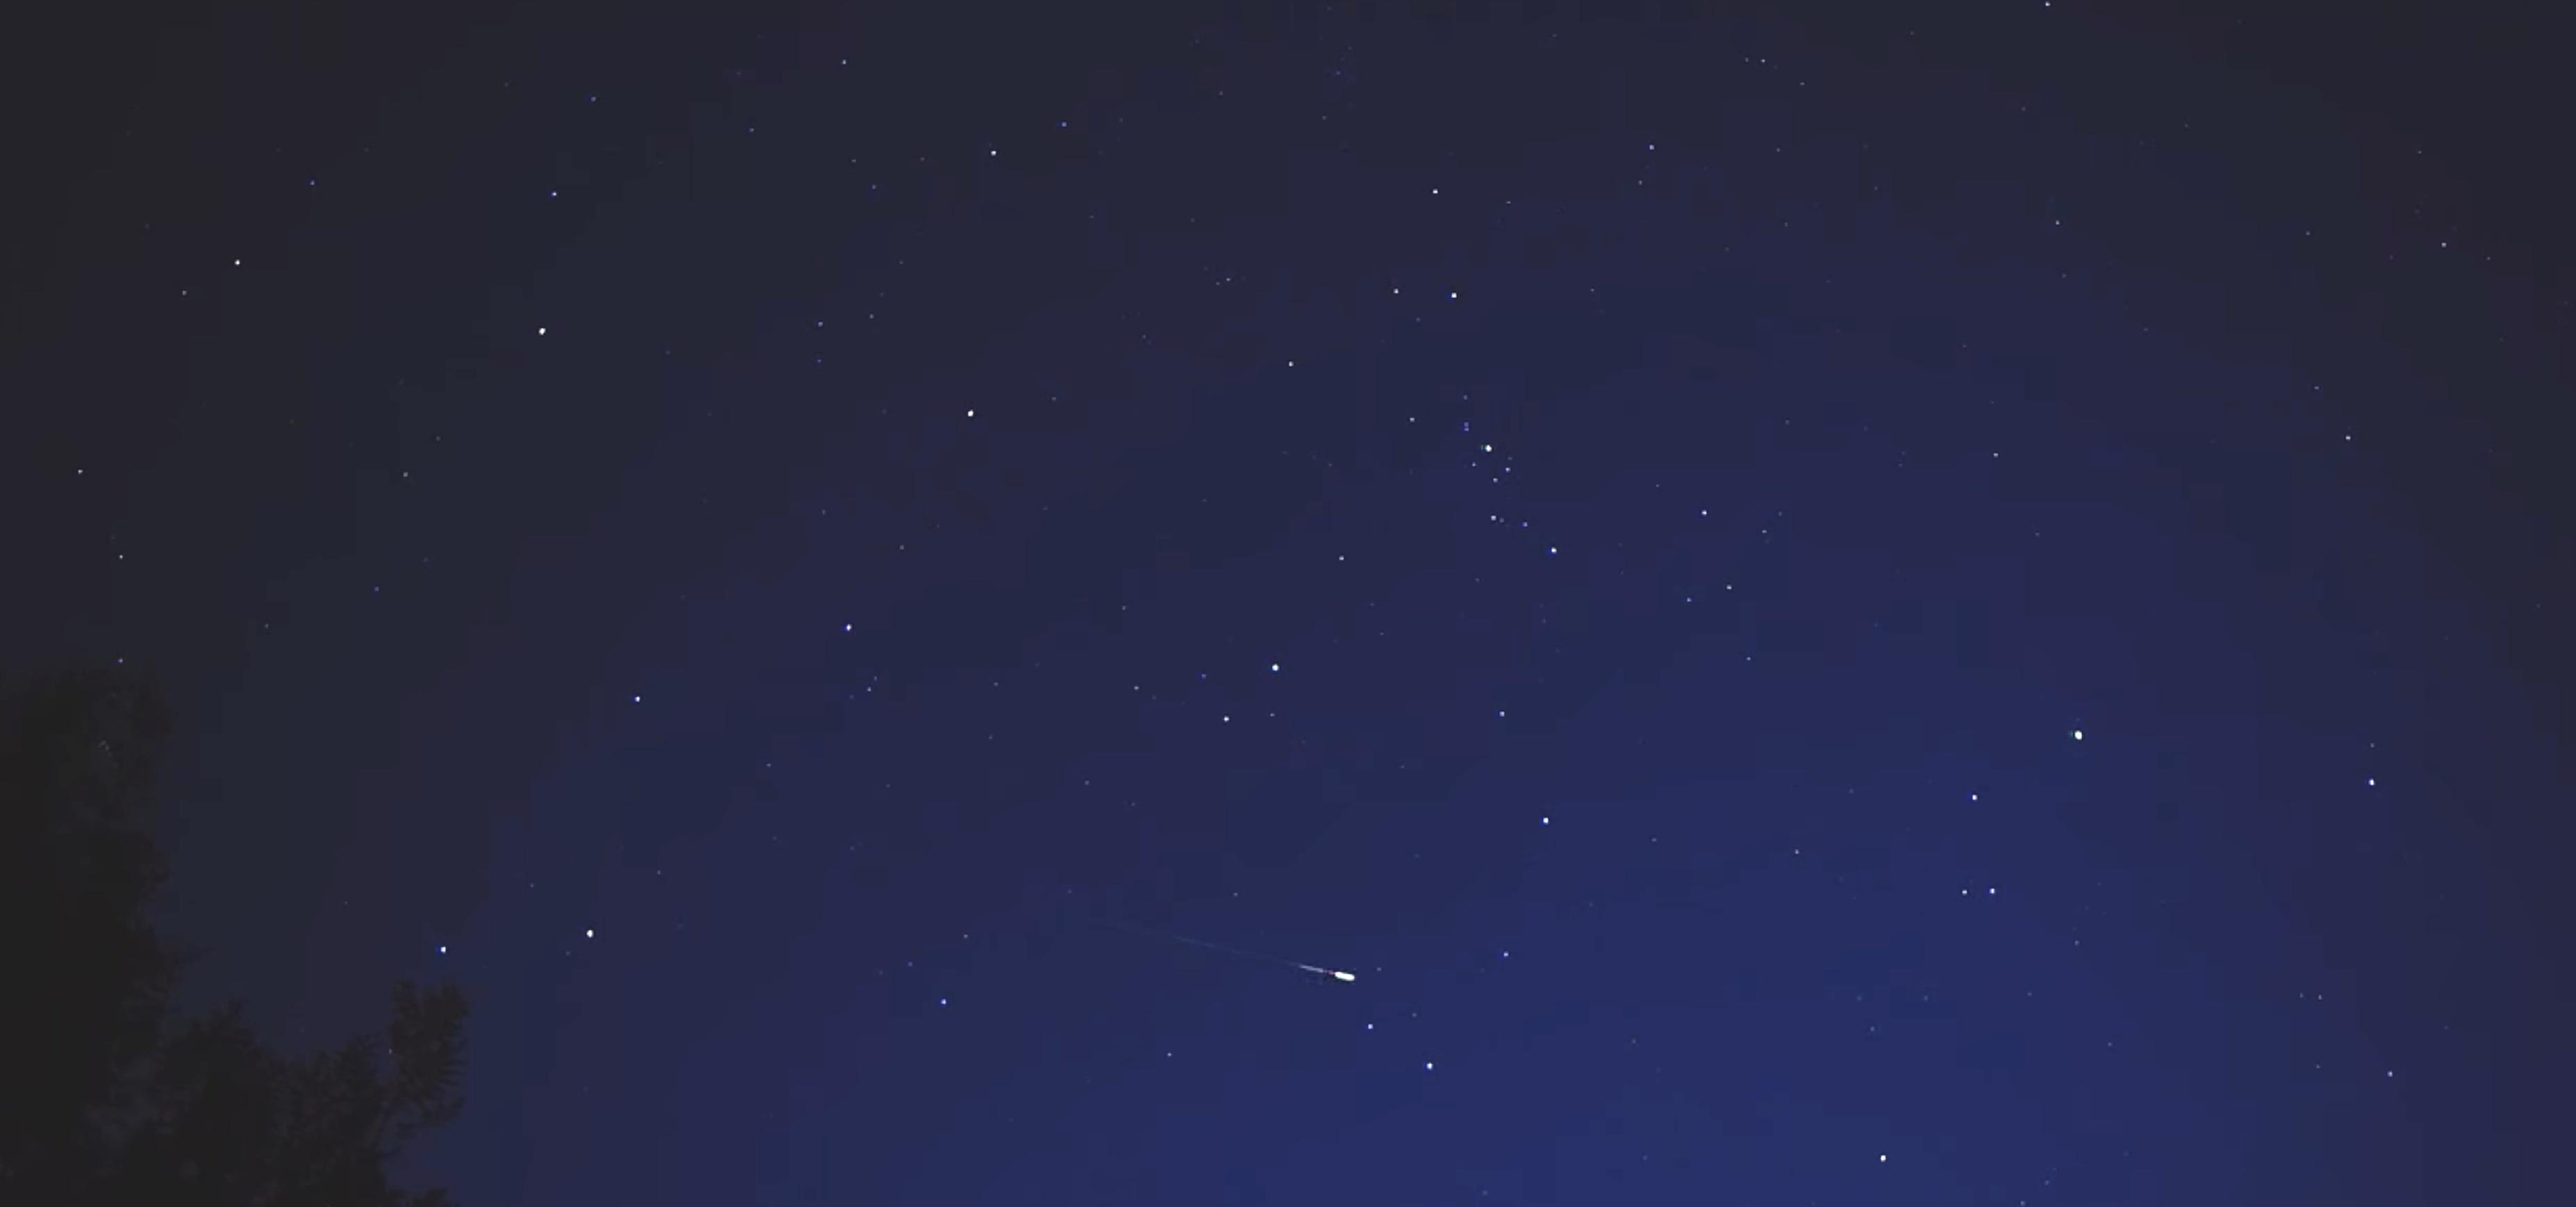meteorite: (1124, 915, 1396, 997)
